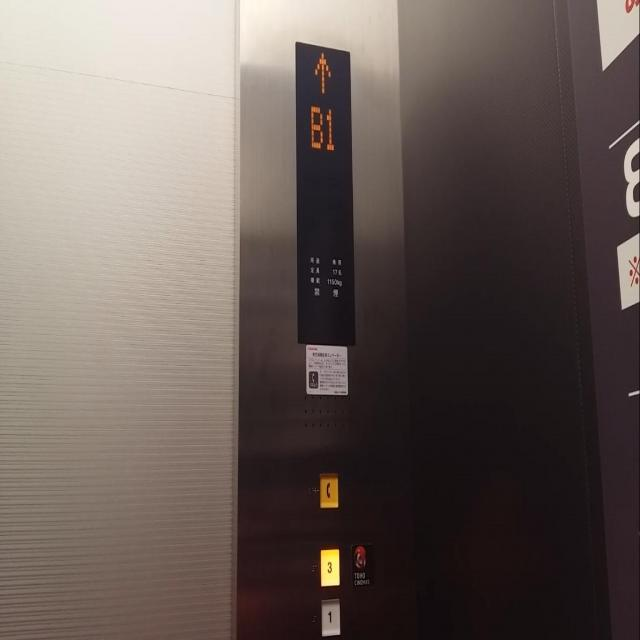1: (319, 596, 342, 639)
3: (318, 544, 341, 588)
call: (317, 468, 340, 512)
led: (292, 35, 358, 353)
unknown: (350, 542, 376, 592)
